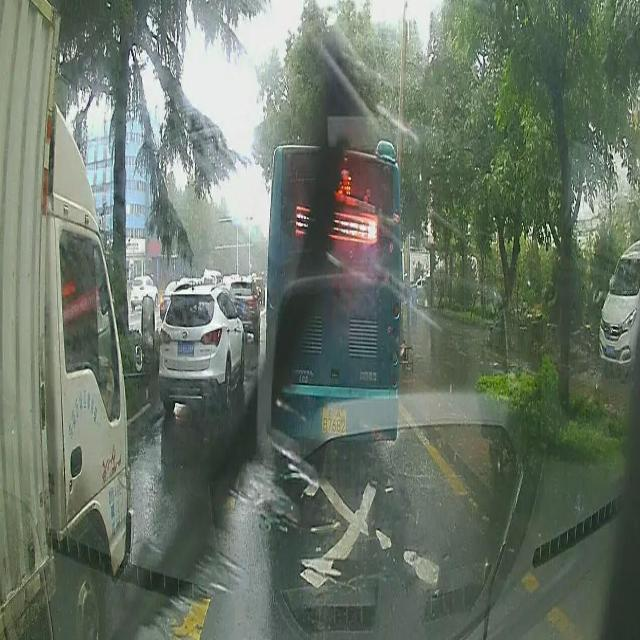car: (0, 2, 134, 639), (266, 138, 400, 446), (158, 282, 248, 408), (599, 230, 638, 370), (230, 276, 260, 352), (130, 275, 158, 307)
